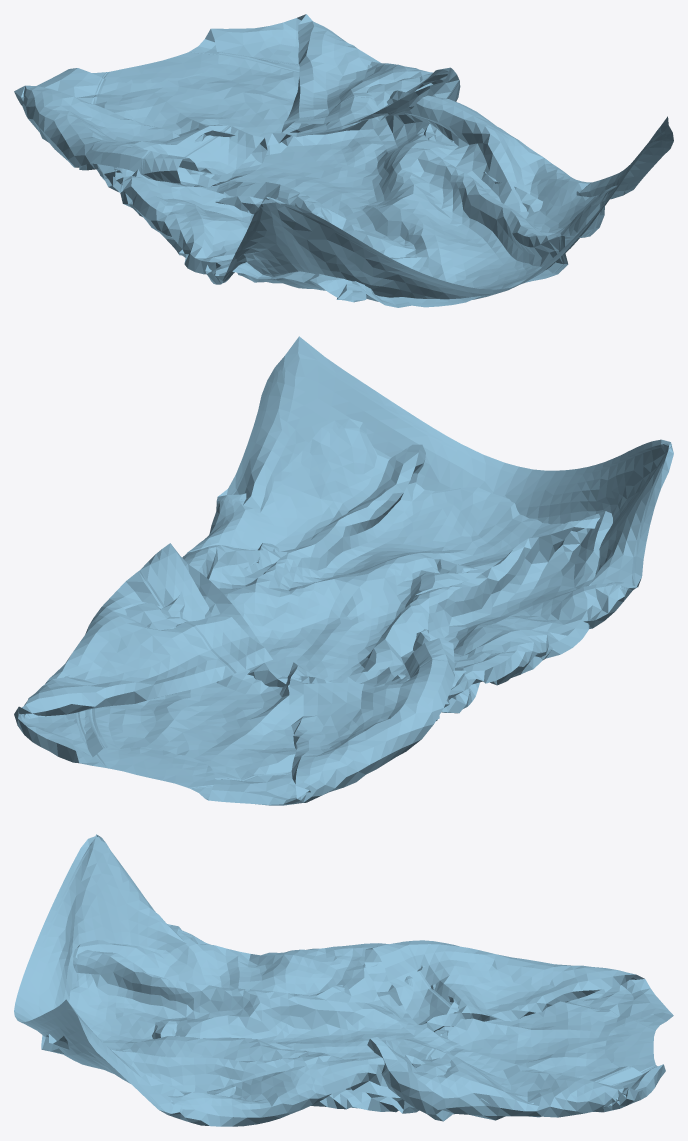
File: frame_03.glb
The picture shows the model from 3 angles, top to bottom: view 1: azimuth 30°, elevation 25°; view 2: azimuth 150°, elevation 25°; view 3: azimuth 270°, elevation 25°; orthographic projection. The views are drawn at different scales.
Parts seen in each view (by area): view 1: frame_03.obj; view 2: frame_03.obj; view 3: frame_03.obj.
Boxes of the visible parts, <box> form: frame_03.obj: <box>14,14,673,307</box>; frame_03.obj: <box>14,336,673,805</box>; frame_03.obj: <box>14,834,673,1126</box>.
Size of the model in its own units: 1.15 by 0.411 by 1.8.
